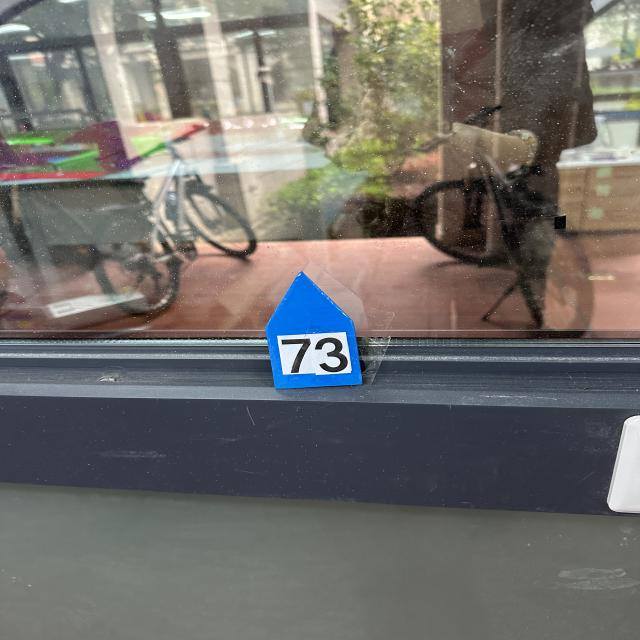board: (264, 269, 367, 389)
